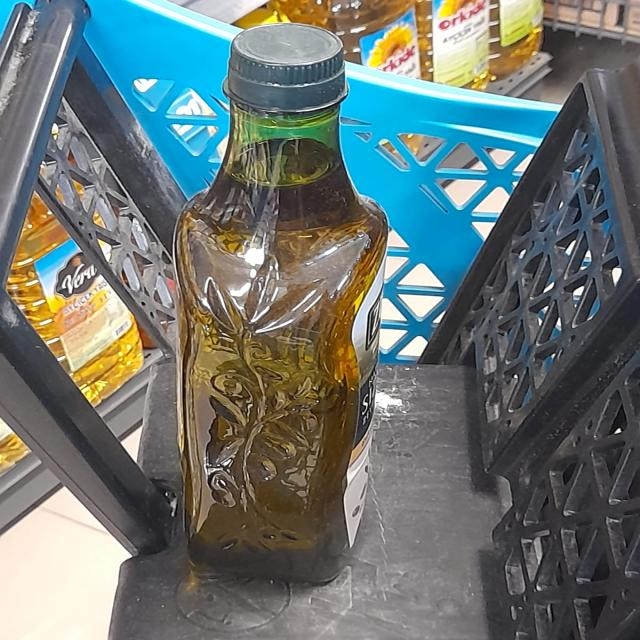olive oil: (145, 176, 416, 591)
